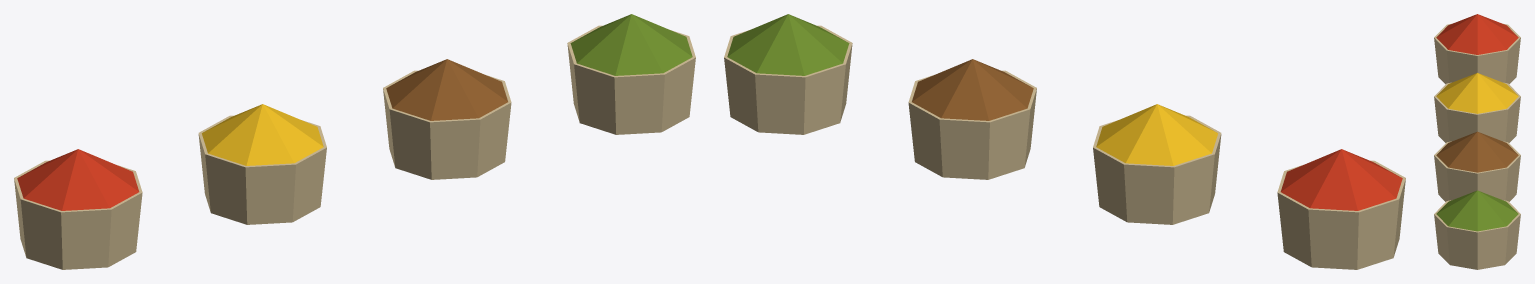
Rendered from market_food_spices.glb.
3 renders of one model, left to right at view 1: azimuth 30°, elevation 25°; view 2: azimuth 150°, elevation 25°; view 3: azimuth 270°, elevation 25°, orthographic. The views are drawn at different scales.
Parts seen in each view (by area): view 1: goods_sack (×4), goods_spice_brown, goods_spice_red, goods_spice_yellow, goods_spice_green; view 2: goods_sack (×4), goods_spice_brown, goods_spice_red, goods_spice_yellow, goods_spice_green; view 3: goods_sack (×4), goods_spice_green, goods_spice_brown, goods_spice_red, goods_spice_yellow.
Part boxes in pixels (x1=…): goods_sack (×4): x1=14, y1=25, x2=695, y2=269; goods_spice_brown: x1=386, y1=59, x2=507, y2=120; goods_spice_red: x1=17, y1=149, x2=139, y2=210; goods_spice_yellow: x1=202, y1=104, x2=323, y2=165; goods_spice_green: x1=570, y1=14, x2=692, y2=75; goods_sack (×4): x1=724, y1=25, x2=1405, y2=269; goods_spice_brown: x1=912, y1=59, x2=1033, y2=120; goods_spice_red: x1=1280, y1=149, x2=1402, y2=210; goods_spice_yellow: x1=1096, y1=104, x2=1217, y2=165; goods_spice_green: x1=727, y1=14, x2=849, y2=75; goods_sack (×4): x1=1434, y1=23, x2=1520, y2=269; goods_spice_green: x1=1436, y1=190, x2=1518, y2=231; goods_spice_brown: x1=1436, y1=131, x2=1518, y2=172; goods_spice_red: x1=1436, y1=14, x2=1518, y2=54; goods_spice_yellow: x1=1436, y1=73, x2=1518, y2=113.
Bounding box in the file's own units: 2.32 × 0.32 × 0.4.
